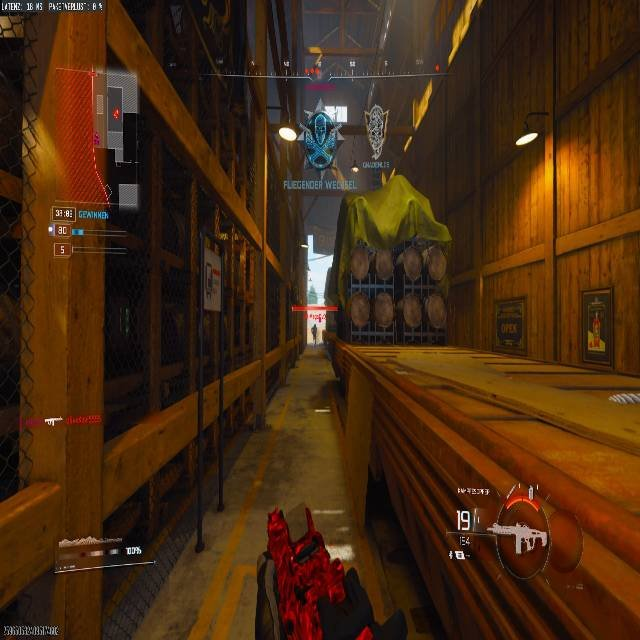head: (312, 95, 326, 111)
player: (302, 95, 341, 170), (310, 323, 317, 343)
